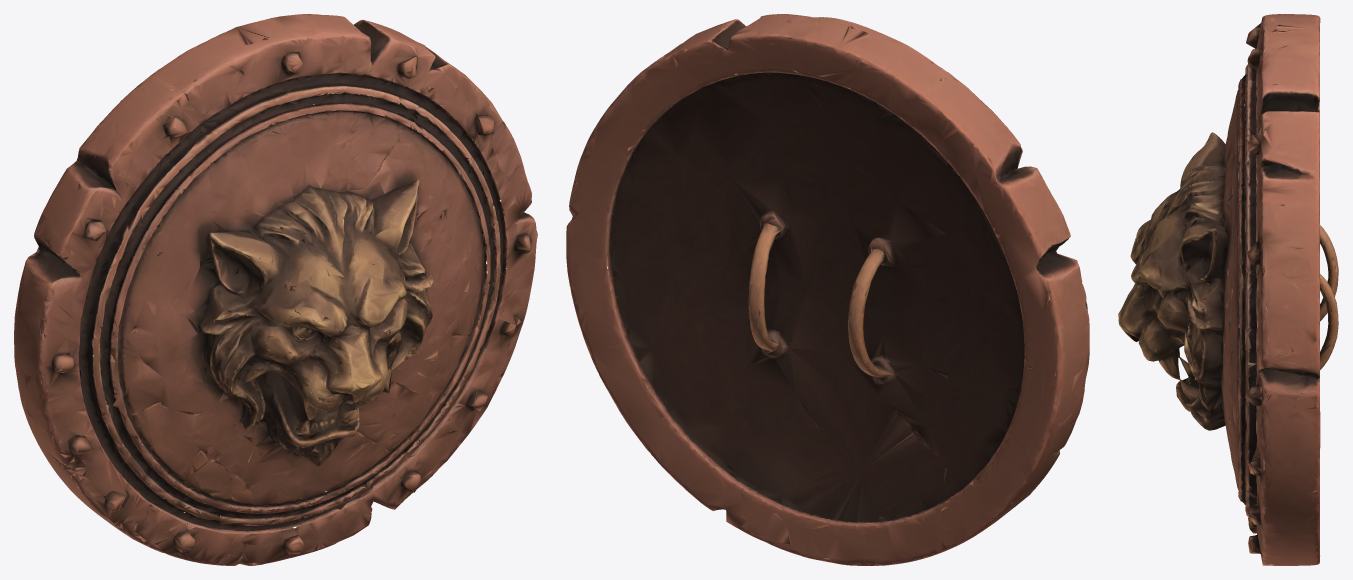
The model's file is eq_offhand.glb.
3 renders of one model, left to right at view 1: azimuth 30°, elevation 25°; view 2: azimuth 150°, elevation 25°; view 3: azimuth 270°, elevation 25°, orthographic. The views are drawn at different scales.
Visible parts, largest first — view 1: tripo_node_686c1753-a1ad-4ee3-99ef-a9eb98670f17; view 2: tripo_node_686c1753-a1ad-4ee3-99ef-a9eb98670f17; view 3: tripo_node_686c1753-a1ad-4ee3-99ef-a9eb98670f17.
Part boxes in pixels (x1,y1,x2,y2): tripo_node_686c1753-a1ad-4ee3-99ef-a9eb98670f17: (14, 14, 537, 565); tripo_node_686c1753-a1ad-4ee3-99ef-a9eb98670f17: (566, 14, 1089, 565); tripo_node_686c1753-a1ad-4ee3-99ef-a9eb98670f17: (1118, 14, 1338, 565).
Bounding box in the file's own units: 0.6493 × 0.65 × 0.2585.
1 material, 1 textured.
